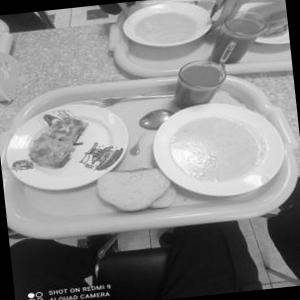bread: (88, 155, 176, 216)
cheese_sandwich: (20, 109, 97, 176)
coffee: (212, 3, 274, 74), (166, 52, 230, 117)
porridge: (156, 92, 277, 200), (122, 0, 209, 51)
